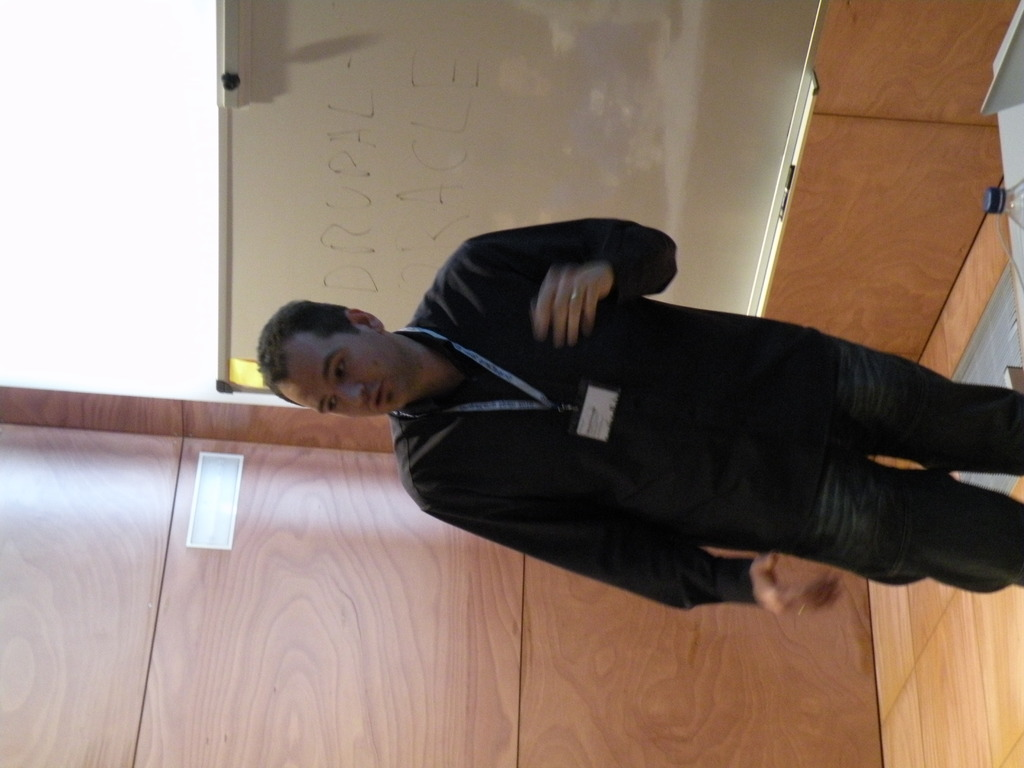face: (279, 330, 413, 420)
